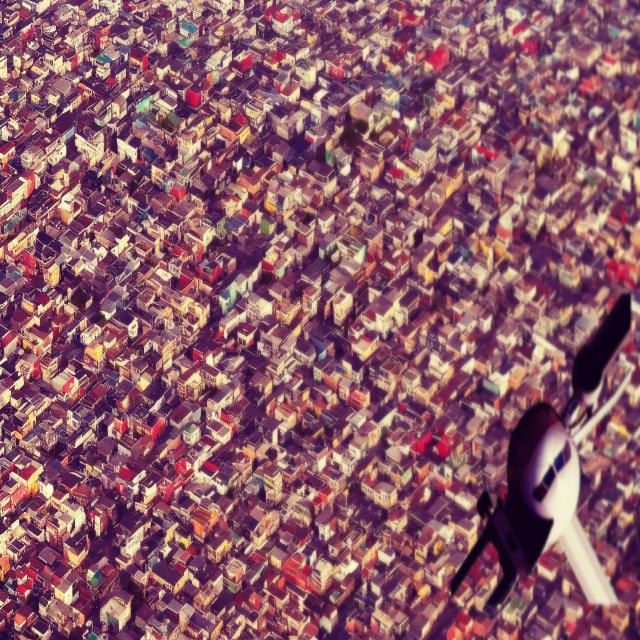airplane: (448, 290, 634, 613)
